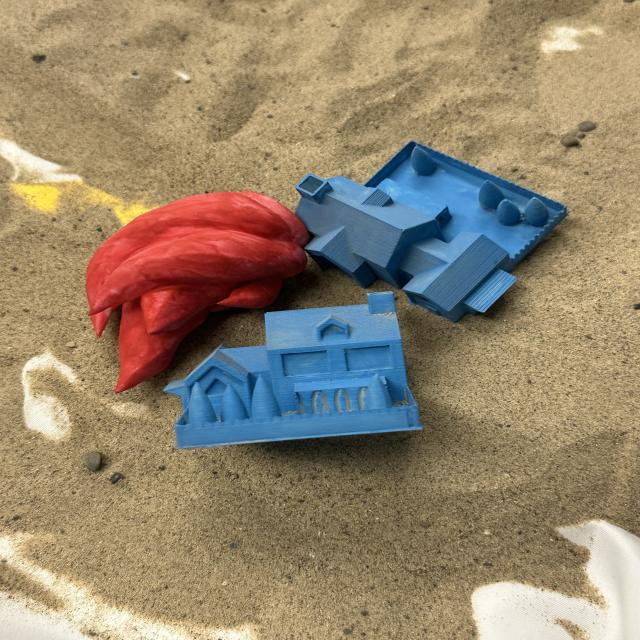fire: (83, 189, 310, 394)
house: (292, 140, 574, 320), (162, 290, 425, 450)
